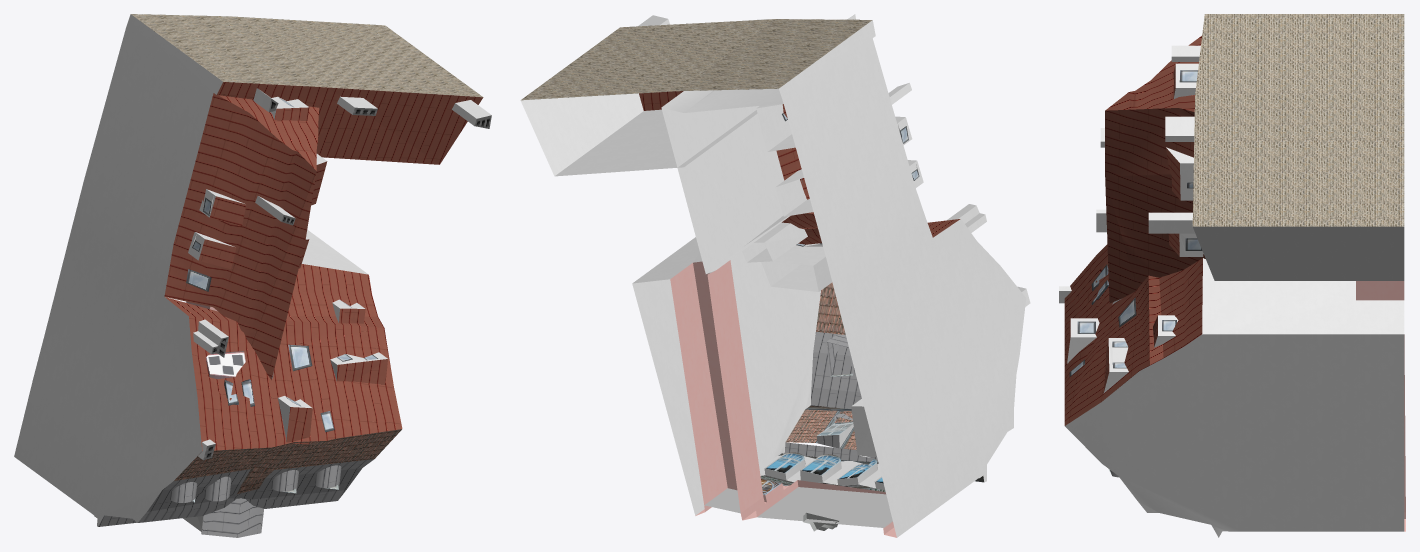
Rendered from Viru_3-origo.obj.
The picture shows the model from 3 angles, left to right: view 1: azimuth 30°, elevation 25°; view 2: azimuth 150°, elevation 25°; view 3: azimuth 270°, elevation 25°; orthographic projection. The views are drawn at different scales.
Visible parts, largest first — view 1: Viru_3; view 2: Viru_3; view 3: Viru_3.
Part boxes in pixels (x1,y1,x2,y2): Viru_3: (14,14,491,537); Viru_3: (520,14,1030,537); Viru_3: (1059,14,1405,537).
Size of the model in its own units: 29.25 by 33.5 by 21.87.
